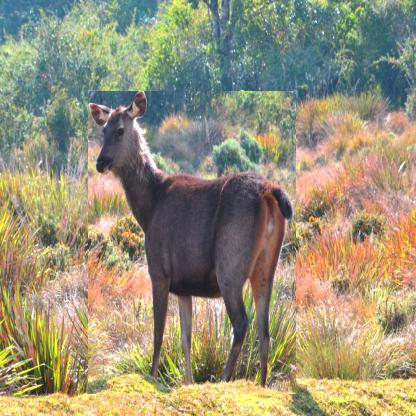Deer: (88, 91, 296, 394)
